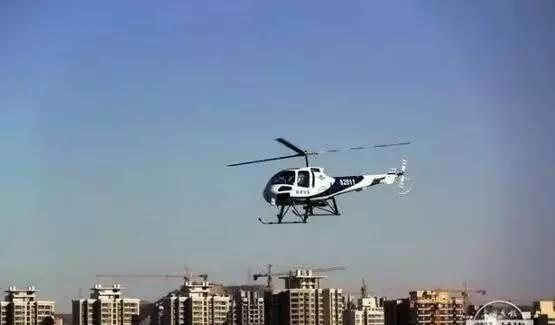airplane: (223, 136, 423, 224)
